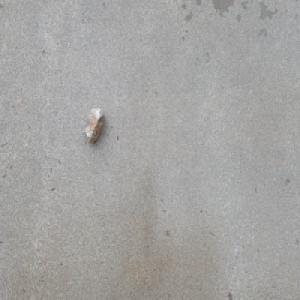Rock: (84, 105, 104, 145)
